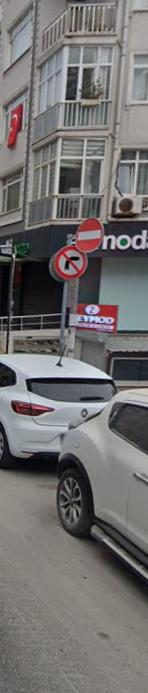turnright: (54, 245, 88, 274)
